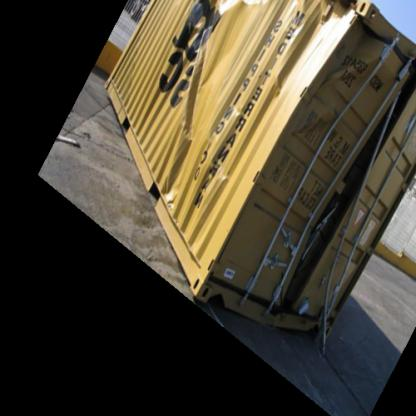Damage: (279, 77, 404, 312), (174, 0, 244, 140)
